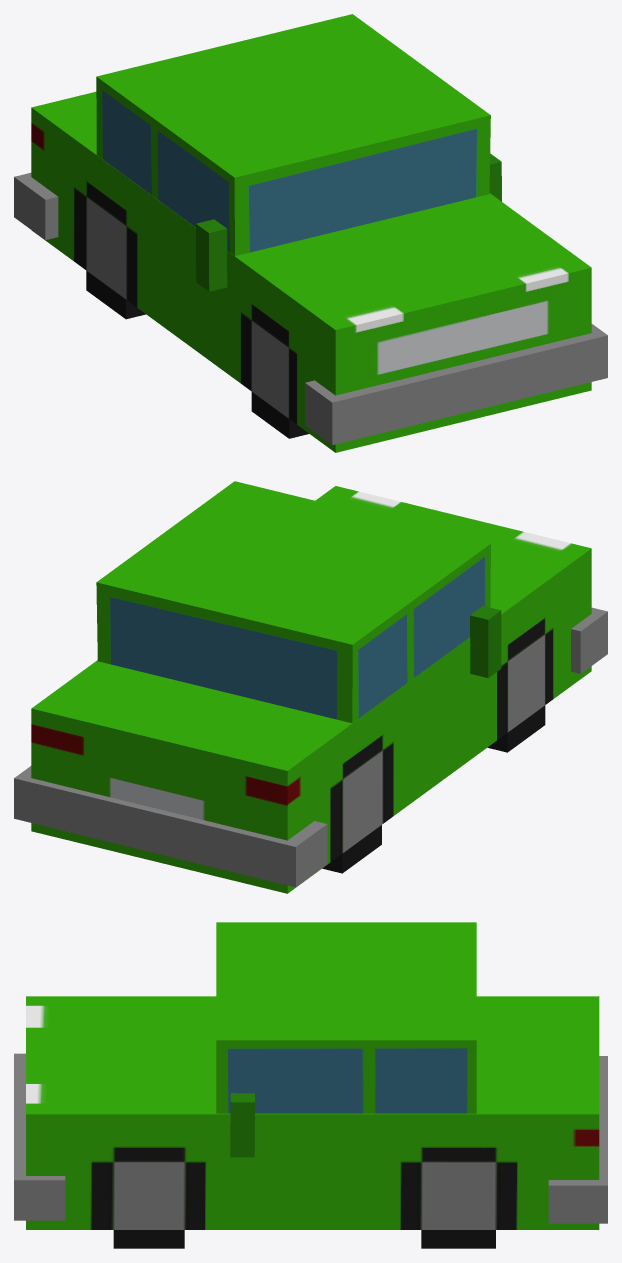
The model's file is OtherCars_unity.fbx.
3 renders of one model, top to bottom at view 1: azimuth 30°, elevation 25°; view 2: azimuth 150°, elevation 25°; view 3: azimuth 270°, elevation 25°, orthographic. The views are drawn at different scales.
Visible parts, largest first — view 1: Taxi1; view 2: Taxi1; view 3: Taxi1.
Boxes of the visible parts, box(x1,y1,x2,y2) form: Taxi1: box(14, 14, 607, 452); Taxi1: box(14, 481, 607, 893); Taxi1: box(14, 922, 607, 1248).
Bounding box in the file's own units: 5 × 3.61 × 9.32.
